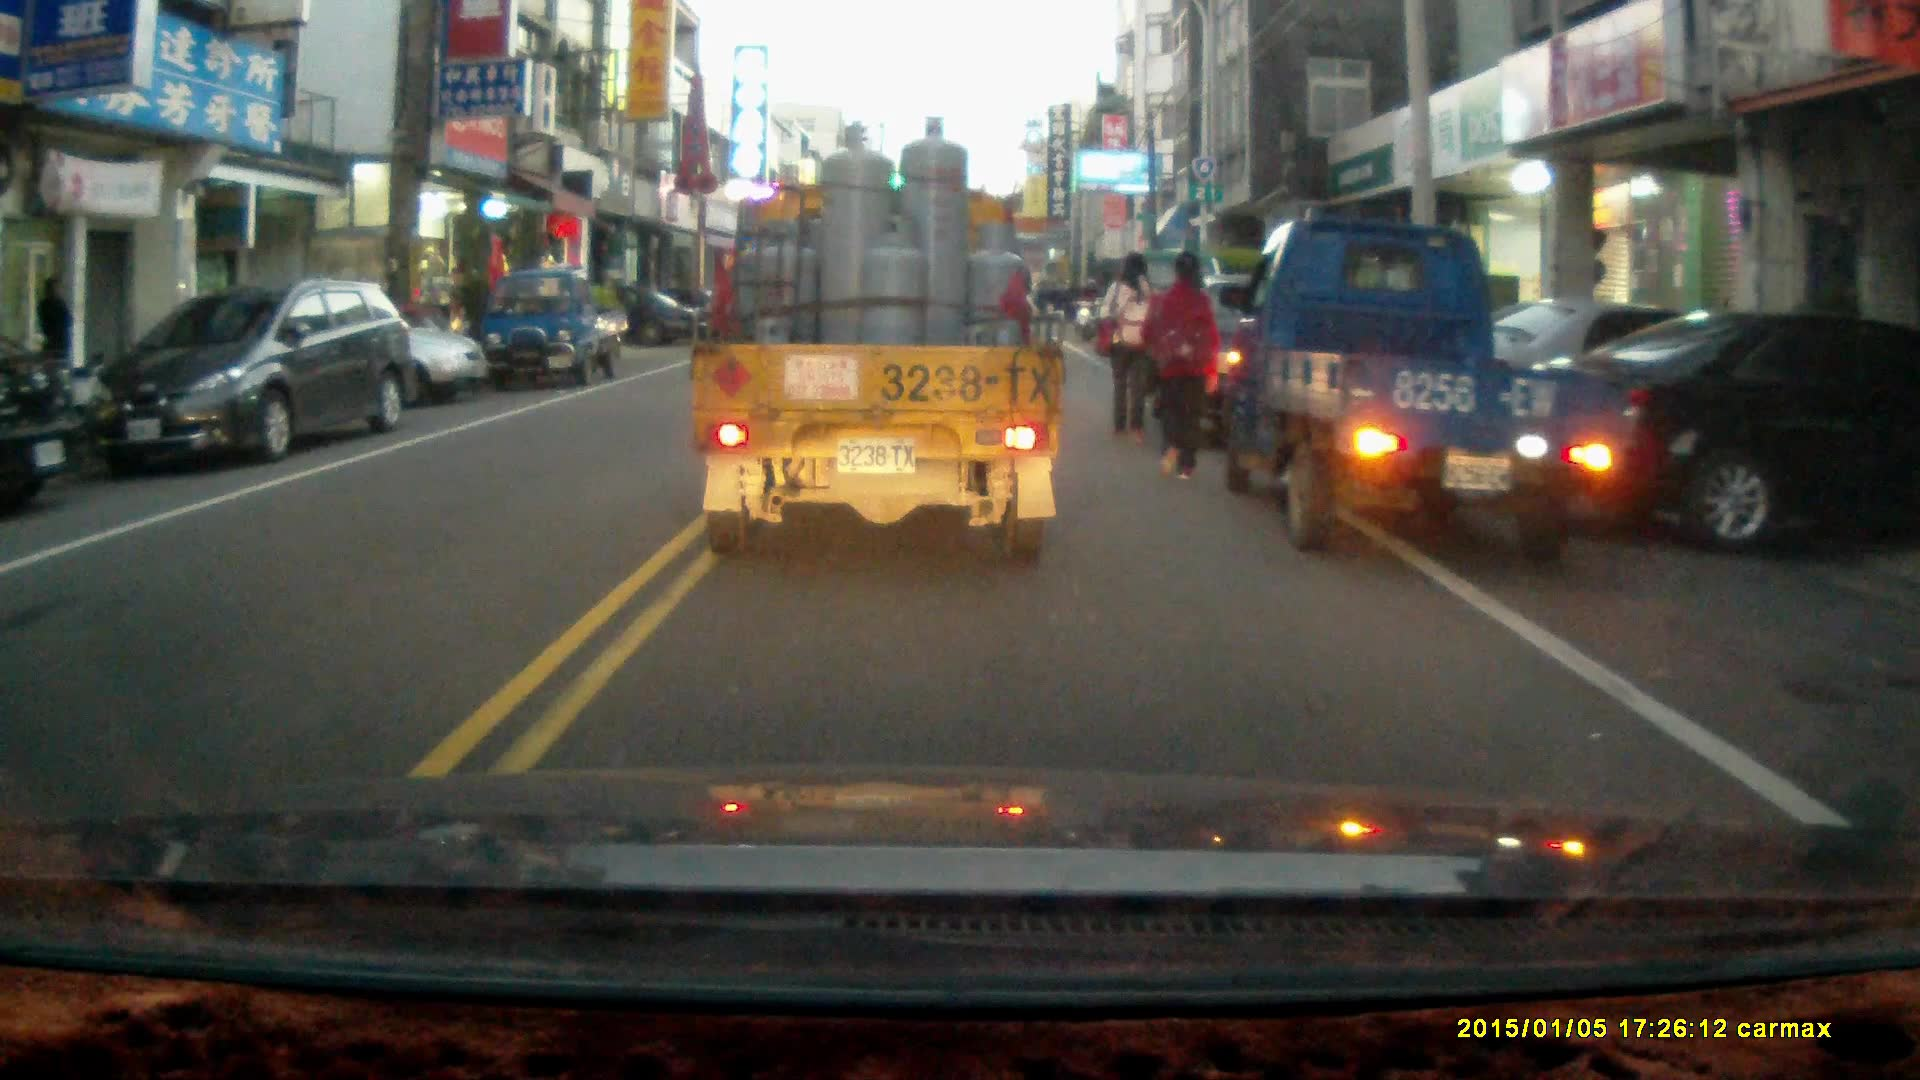pedestrian: (1135, 249, 1218, 477), (1099, 251, 1164, 447), (31, 272, 75, 395)
rider: (1069, 277, 1099, 341)
vehicle: (688, 118, 1066, 571), (1218, 221, 1627, 574), (88, 281, 416, 472), (227, 292, 491, 415), (477, 273, 621, 397), (1, 334, 92, 509)
